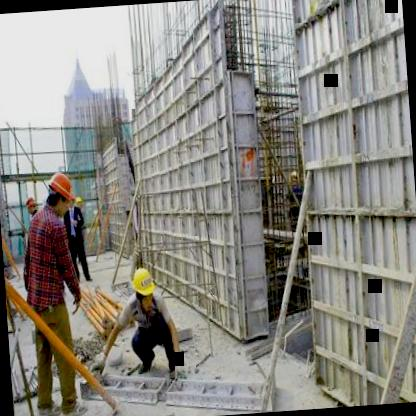helmet: (46, 167, 76, 214), (132, 266, 158, 310), (26, 193, 38, 218)
